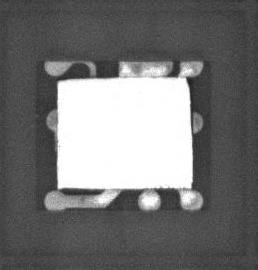DIE_BROKEN: (185, 77, 193, 123), (57, 77, 74, 81)
